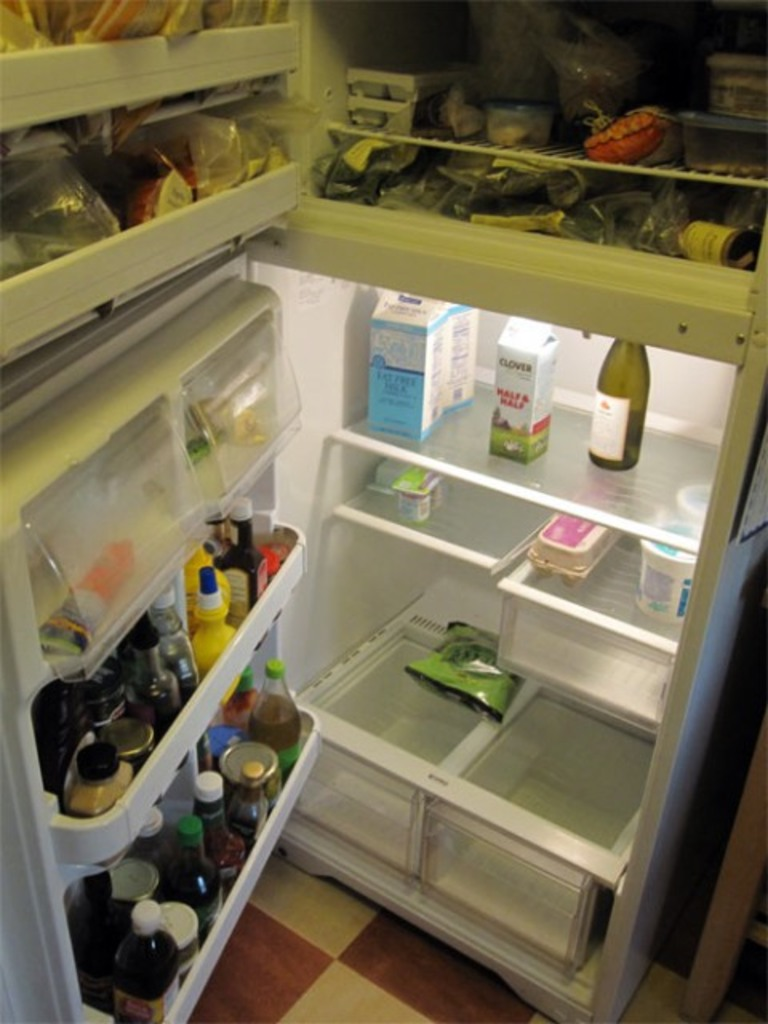refrigerator door: (28, 156, 277, 917)
